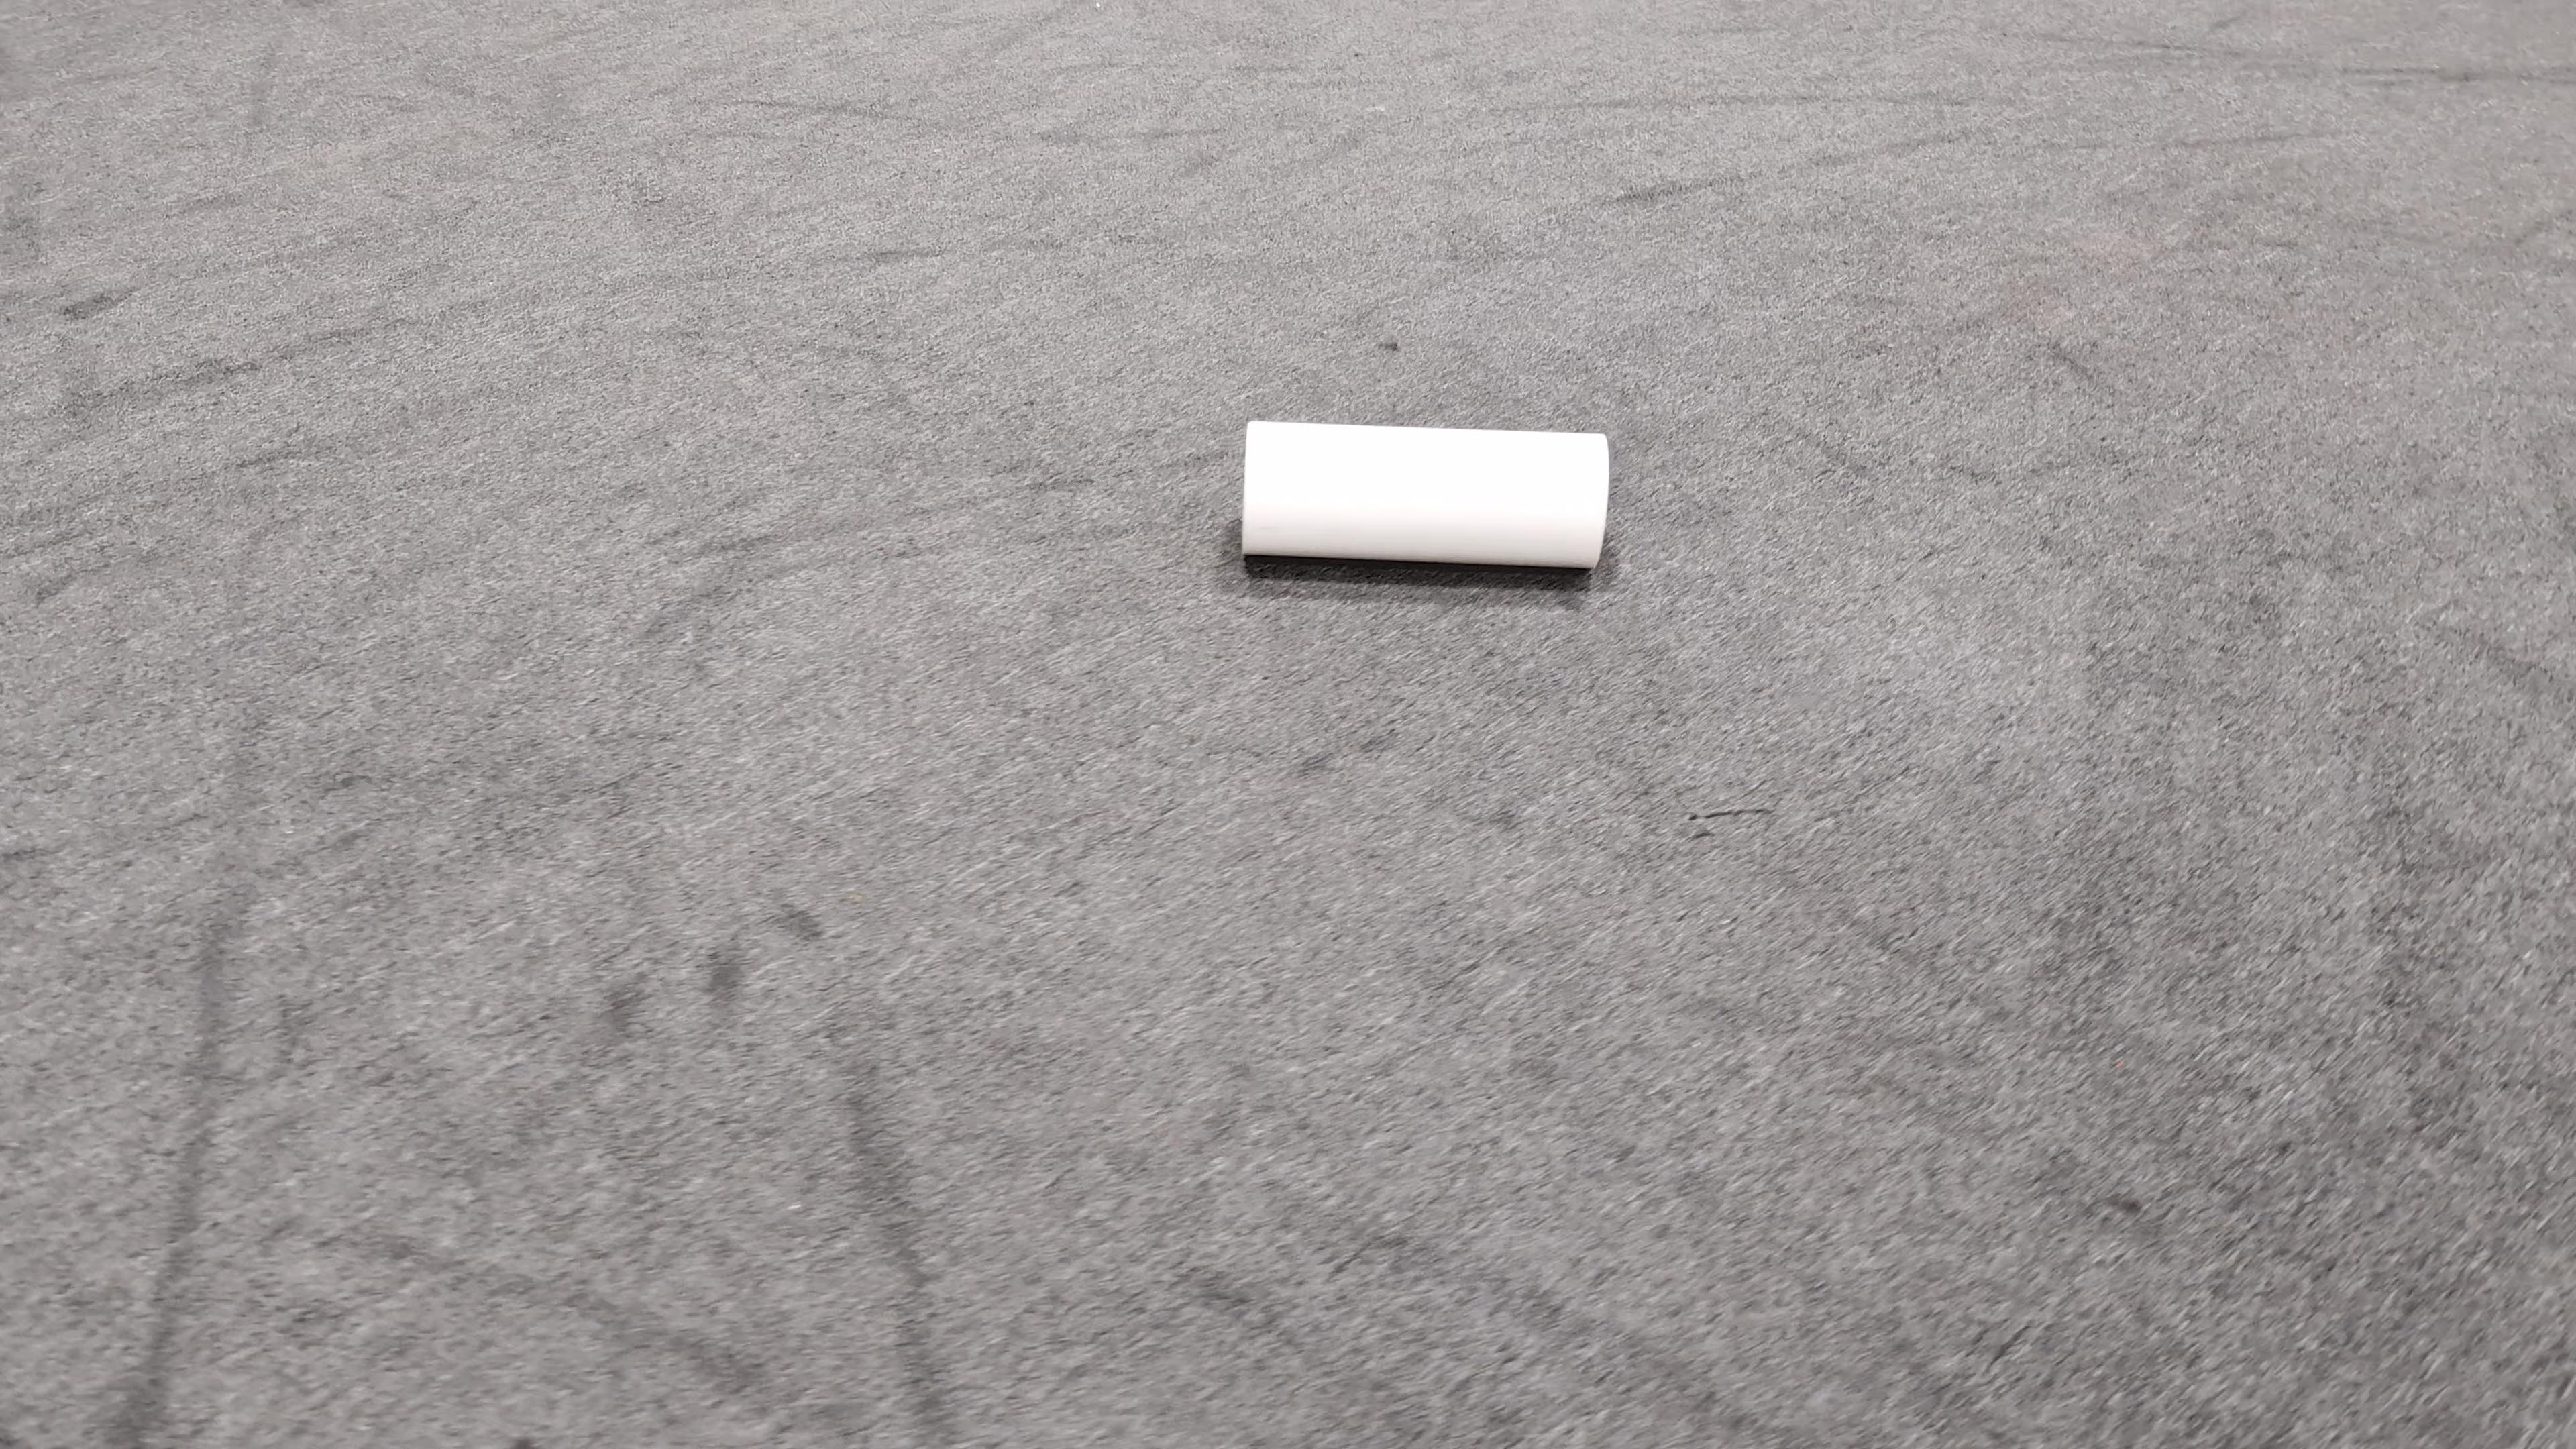coral: (1240, 416, 1610, 570)
